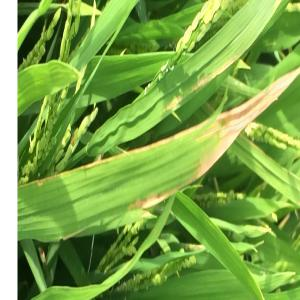Hawar Daun: (207, 122, 242, 161), (268, 66, 300, 97)
